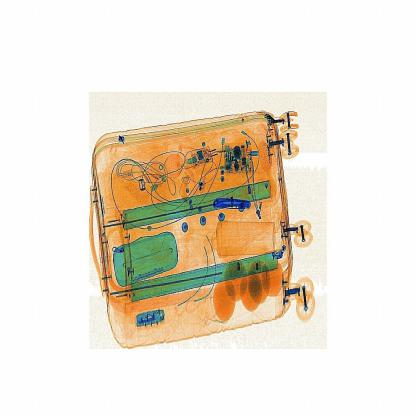knife: (205, 186, 258, 216)
